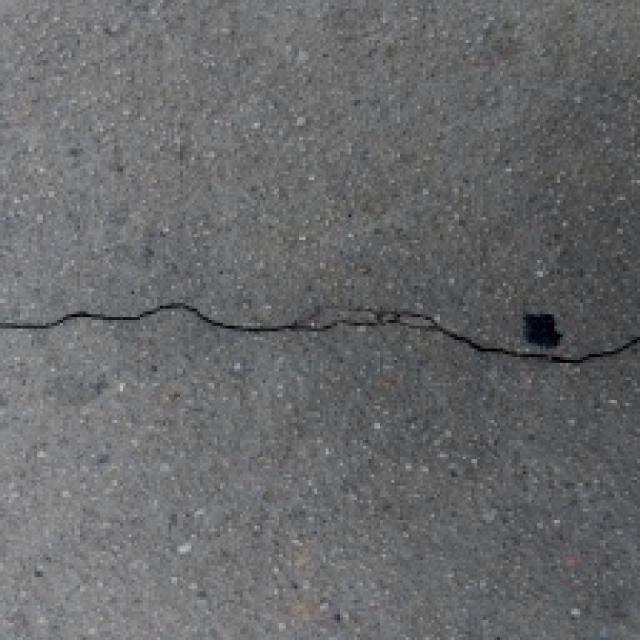SurfaceCrack: (0, 276, 634, 382)
